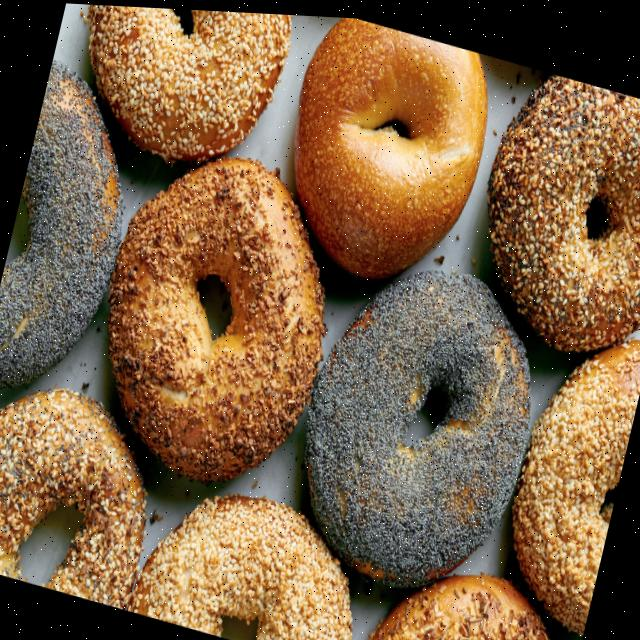Bagel: (304, 266, 530, 583), (107, 155, 324, 480), (294, 14, 487, 274), (487, 70, 640, 344), (0, 59, 123, 389), (512, 332, 640, 627), (129, 492, 352, 640), (87, 4, 293, 159), (0, 388, 146, 606), (367, 570, 550, 640)
